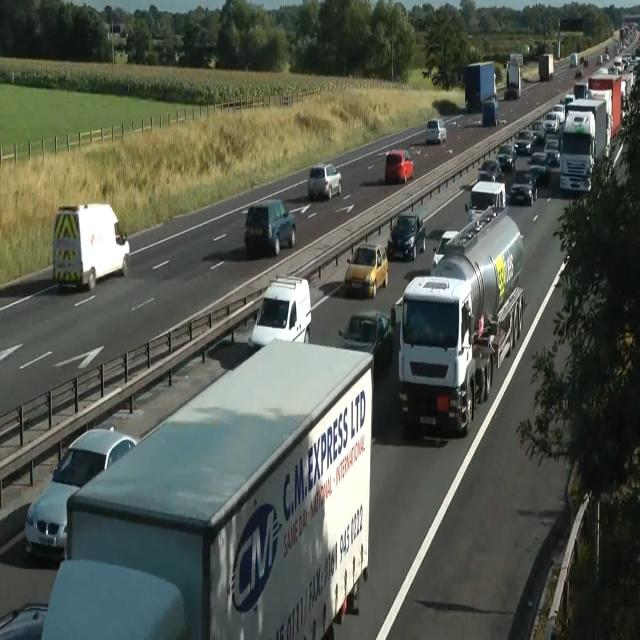bus: (24, 426, 138, 560), (431, 206, 496, 270), (337, 310, 393, 372), (344, 242, 388, 298), (386, 212, 426, 262), (0, 601, 48, 639), (307, 163, 341, 200), (431, 230, 459, 270), (384, 148, 414, 184), (528, 151, 551, 183), (476, 159, 502, 182), (495, 144, 517, 171), (426, 118, 446, 144), (513, 130, 533, 154), (544, 139, 560, 165), (530, 120, 546, 143), (543, 111, 559, 133), (573, 82, 589, 99), (553, 103, 565, 125), (575, 66, 583, 77)
car: (390, 207, 524, 436), (430, 207, 524, 368)
jeep: (391, 274, 477, 436), (52, 201, 130, 291), (248, 274, 312, 349), (244, 198, 296, 256), (464, 180, 506, 220), (510, 169, 537, 205)
minibus: (41, 338, 374, 639), (560, 97, 608, 194), (463, 61, 497, 111), (504, 60, 521, 100), (108, 22, 128, 46), (538, 52, 554, 81), (482, 99, 499, 126), (509, 52, 523, 66), (570, 52, 578, 68)
